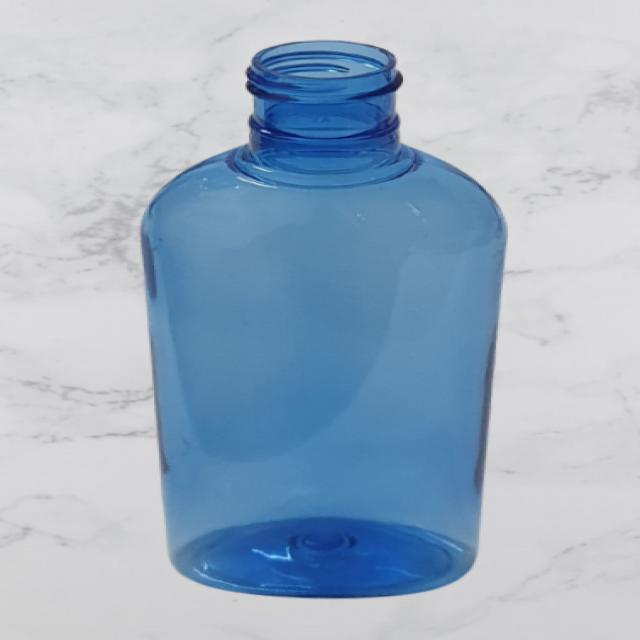blue: (142, 37, 508, 598)
